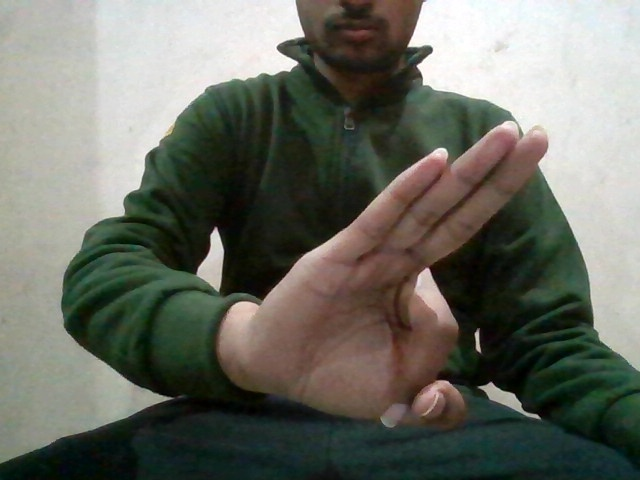F: (246, 113, 557, 438)
